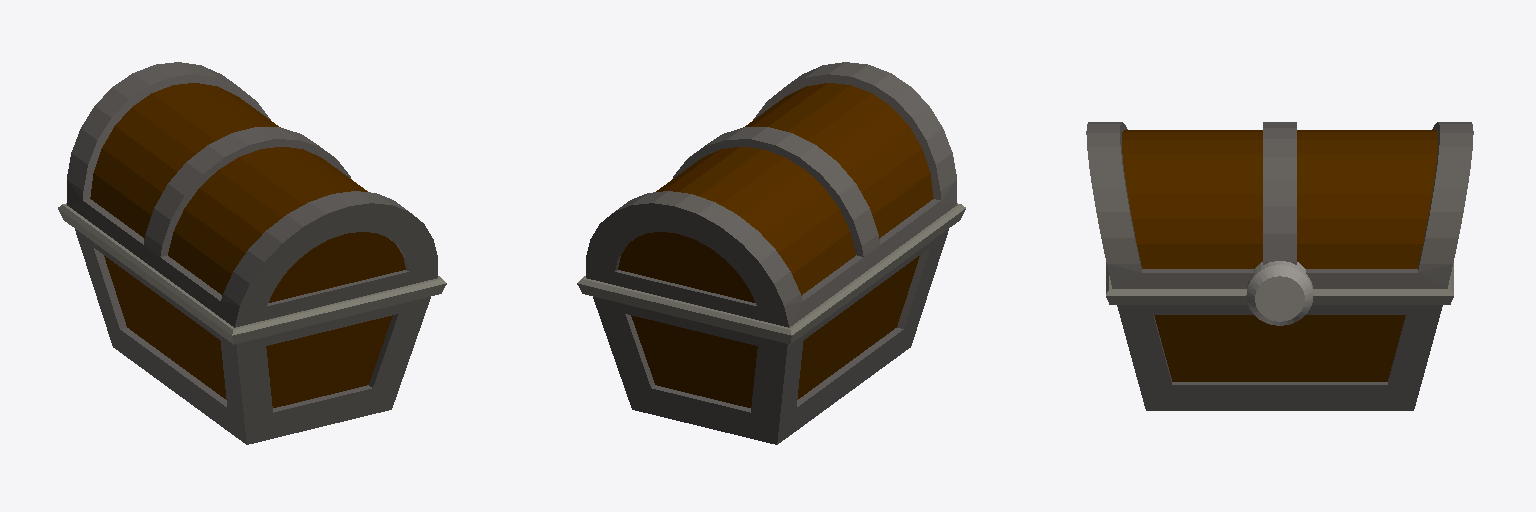
The model's file is Prop_Powerup_Chest.obj.
3 renders of one model, left to right at view 1: azimuth 30°, elevation 25°; view 2: azimuth 150°, elevation 25°; view 3: azimuth 270°, elevation 25°, orthographic.
Parts seen in each view (by area): view 1: object2, object1; view 2: object2, object1; view 3: object2, object1.
Boxes of the visible parts, x1=… form: object2: x1=67, y1=62, x2=437, y2=327; object1: x1=58, y1=203, x2=446, y2=444; object2: x1=586, y1=62, x2=956, y2=327; object1: x1=577, y1=203, x2=965, y2=444; object2: x1=1086, y1=122, x2=1473, y2=288; object1: x1=1106, y1=261, x2=1453, y2=410.
Bounding box in the file's own units: 0.3831 × 0.4 × 0.5778.